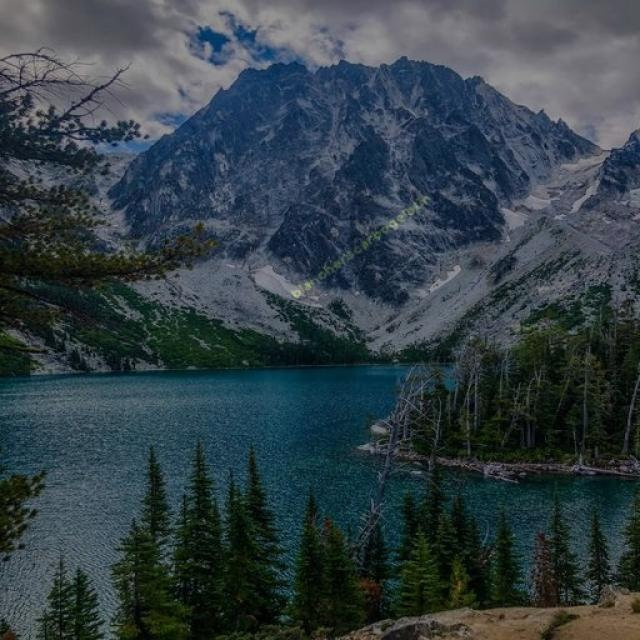watermark: (291, 188, 431, 300)
